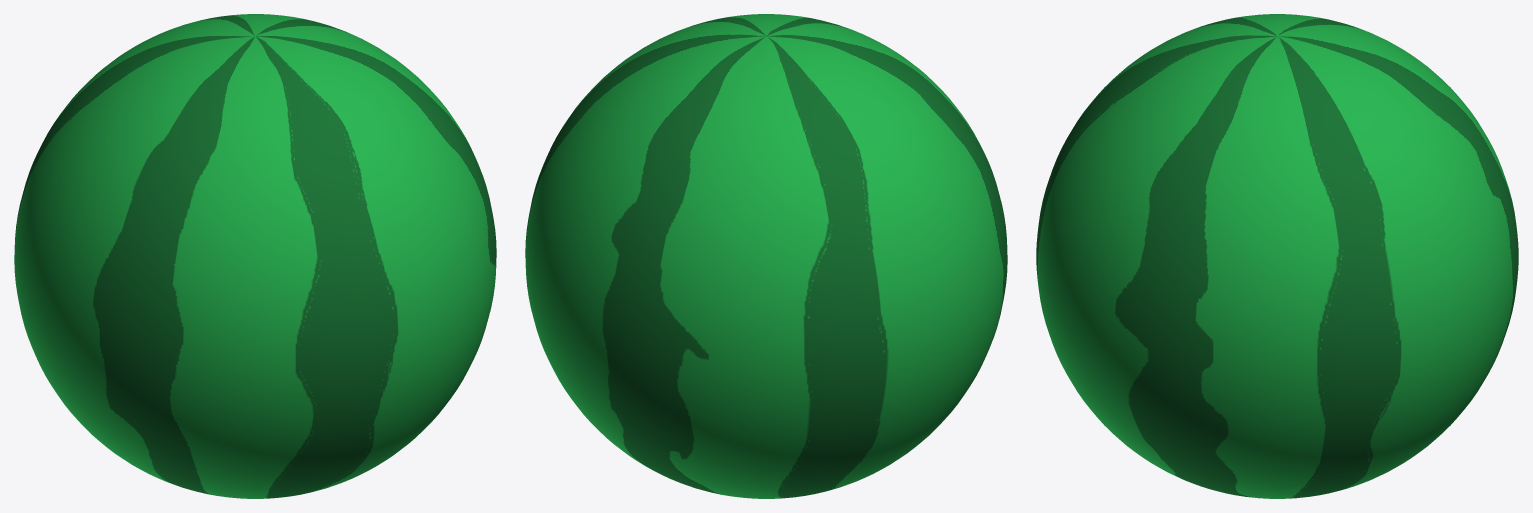
File: watermelon.fbx
The picture shows the model from 3 angles, left to right: view 1: azimuth 30°, elevation 25°; view 2: azimuth 150°, elevation 25°; view 3: azimuth 270°, elevation 25°; orthographic projection.
Visible parts, largest first — view 1: Sphere.001; view 2: Sphere.001; view 3: Sphere.001.
Boxes of the visible parts, x1,y1,x2,y2 form: Sphere.001: (14,14,496,498); Sphere.001: (525,14,1007,498); Sphere.001: (1036,14,1518,498).
Bounding box in the file's own units: 198 × 200 × 198.
